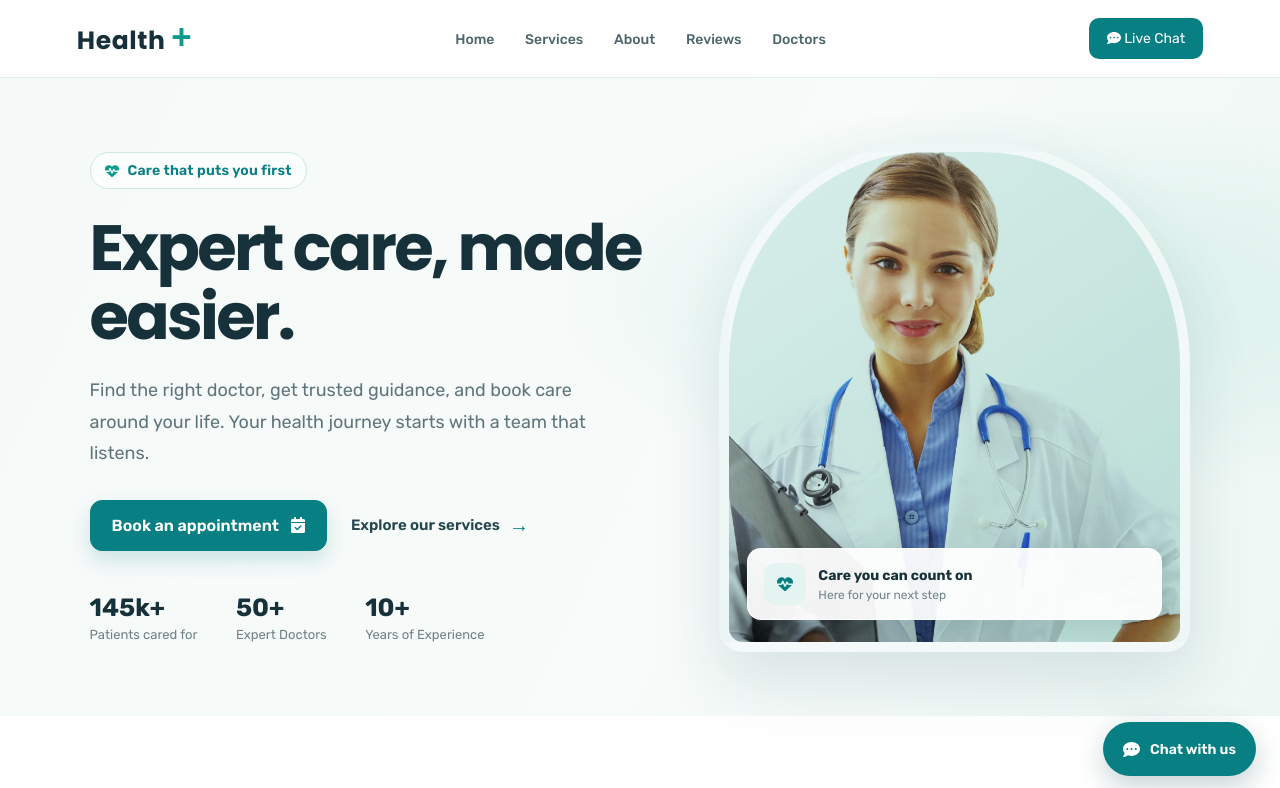
it: shows clear setup steps when the provider key is missing
The width and height of the screenshot is (1280, 788).
Step 1. Click the button with aria-label "Open live chat" → (1180, 749), box [1103, 722, 1256, 776]
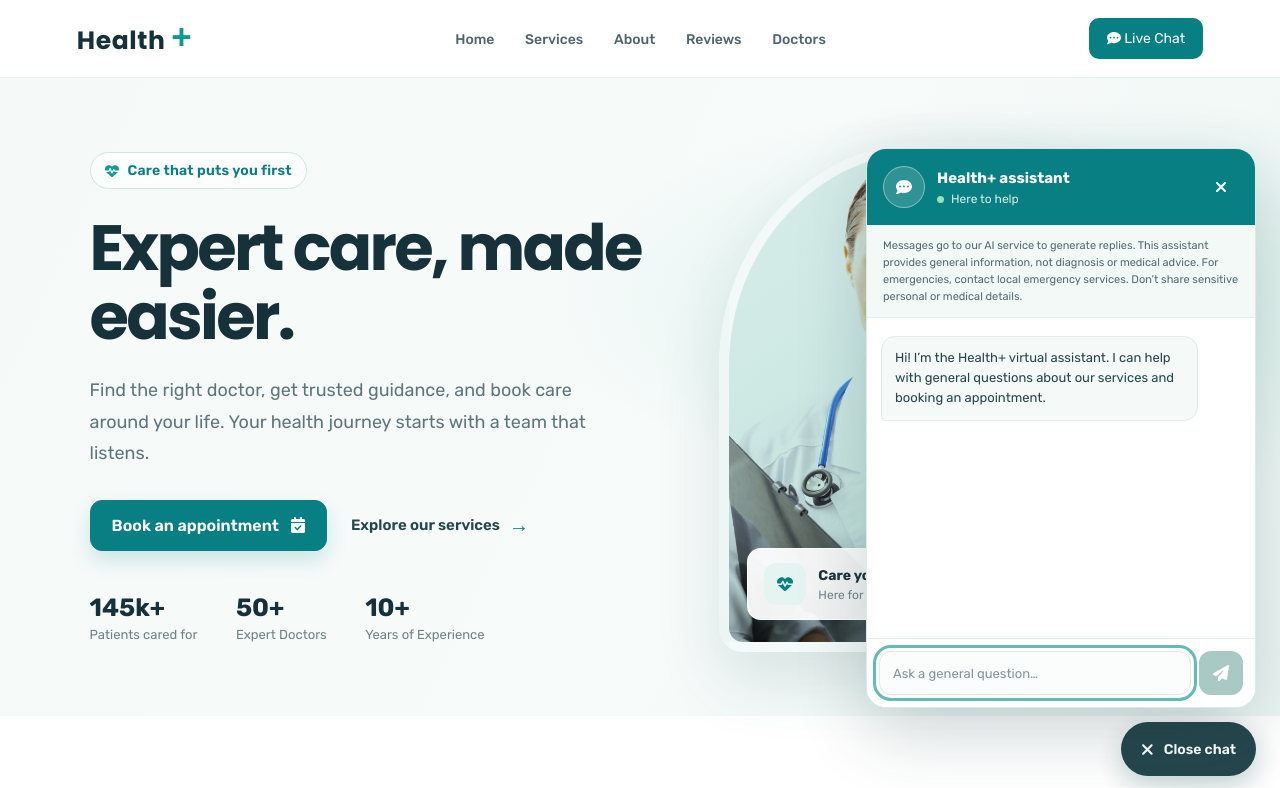
Step 2. Type "How do I book?" into the field named "message the health+ assistant" → (1035, 673), box [879, 651, 1191, 695]
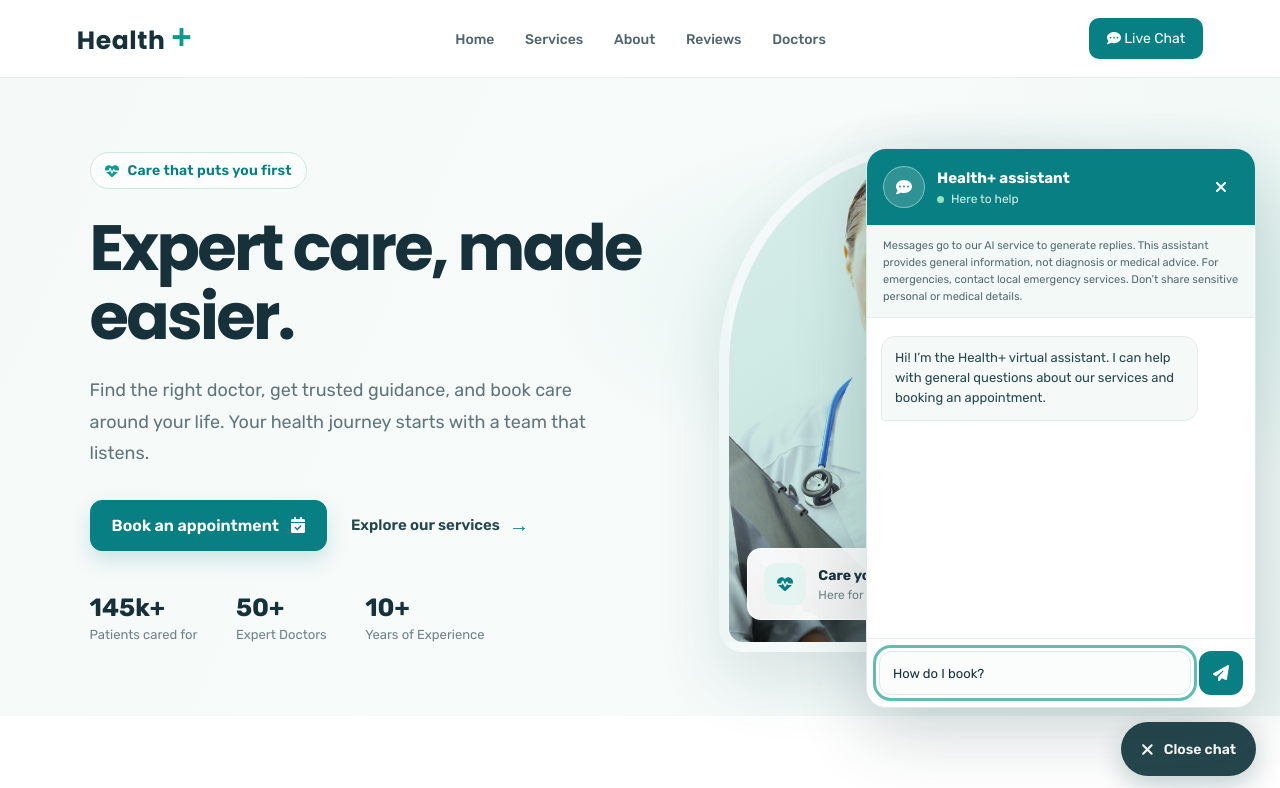
Step 3. Click the button named "send message" → (1221, 673), box [1199, 651, 1243, 695]
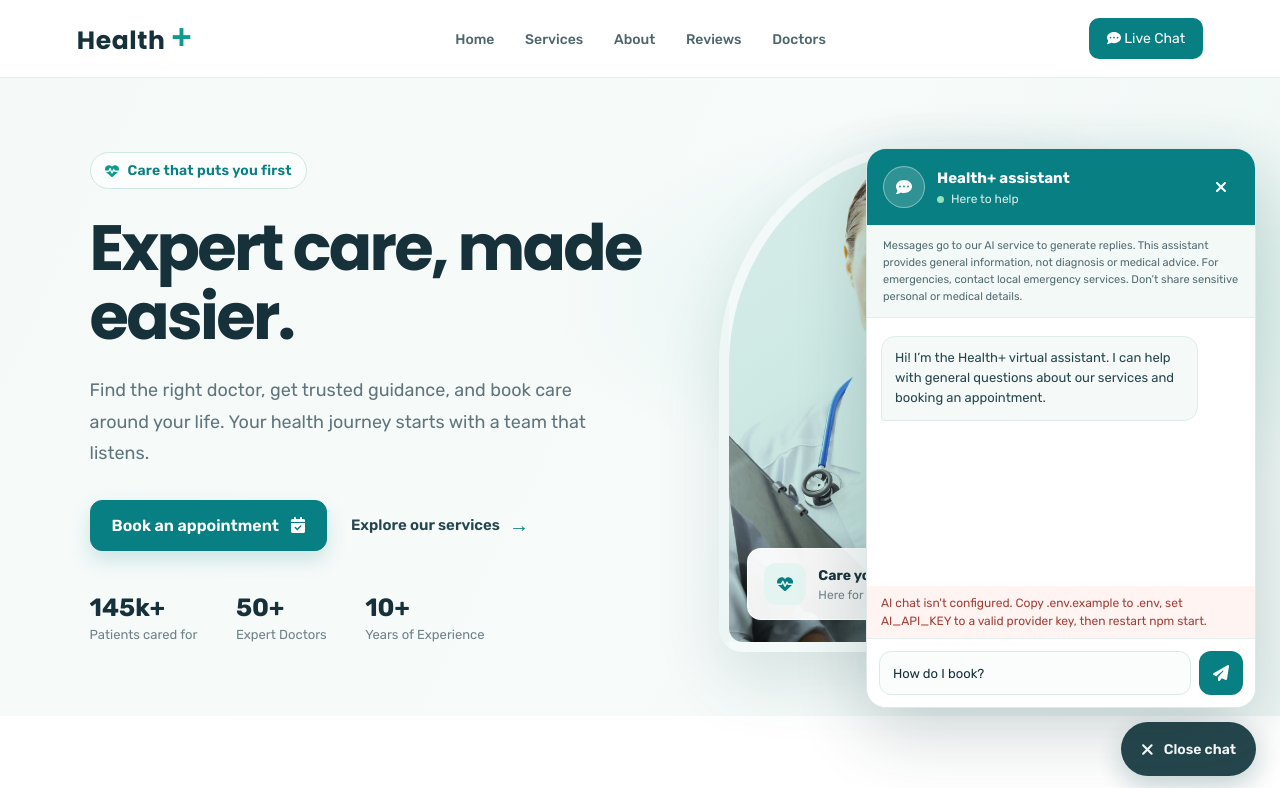
Check: the message shows "Copy .env.example to .env, set AI_API_KEY", box [881, 596, 1207, 628]
